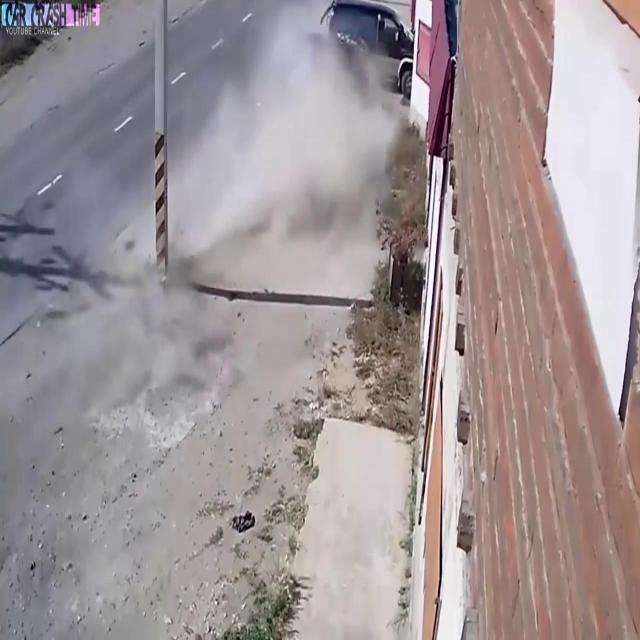accident: (240, 0, 423, 171)
